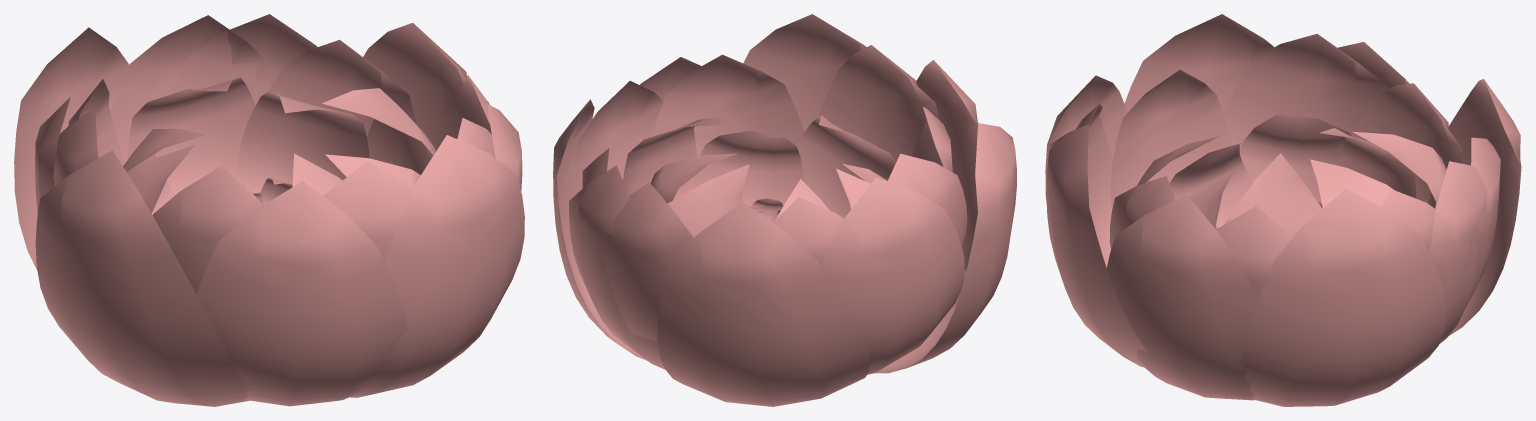
The picture shows the model from 3 angles, left to right: view 1: azimuth 30°, elevation 25°; view 2: azimuth 150°, elevation 25°; view 3: azimuth 270°, elevation 25°; orthographic projection. The views are drawn at different scales.
Parts seen in each view (by area): view 1: 6bee135a; view 2: 6bee135a; view 3: 6bee135a.
Boxes of the visible parts, x1,y1,x2,y2 form: 6bee135a: [14, 14, 524, 406]; 6bee135a: [553, 14, 1016, 406]; 6bee135a: [1045, 14, 1521, 406].
Bounding box in the file's own units: 0.1085 × 0.0745 × 0.1111.
1 material, 1 textured.
